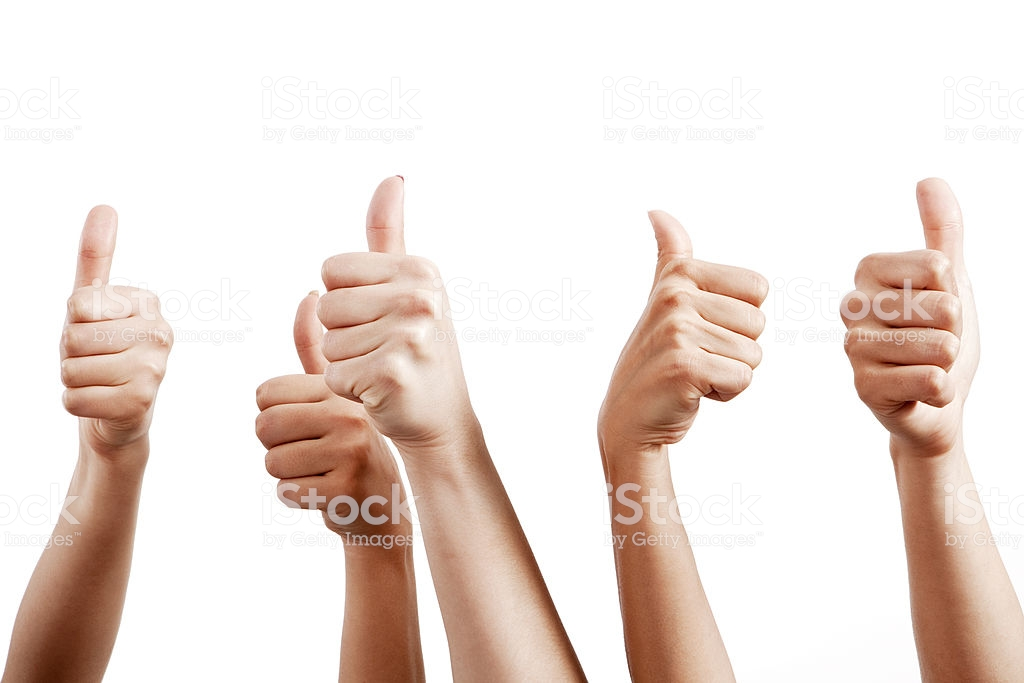thumbsup: (835, 176, 984, 450), (313, 172, 460, 438), (625, 206, 773, 427), (58, 203, 177, 440), (251, 288, 341, 523)
